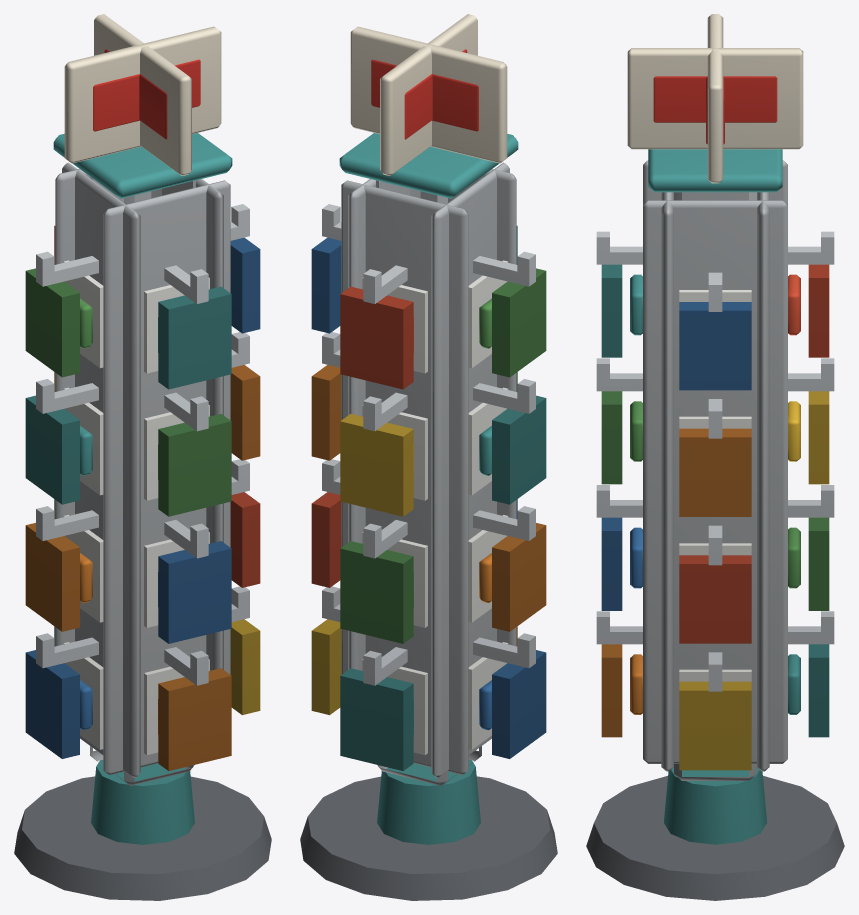
File: SpinnerRack_01_Stocked.glb
3 views of the same model, side by side, from view 1: azimuth 30°, elevation 25°; view 2: azimuth 150°, elevation 25°; view 3: azimuth 270°, elevation 25° (orthographic).
Parts seen in each view (by area): view 1: SM_SpinnerRack_01_Stocked; view 2: SM_SpinnerRack_01_Stocked; view 3: SM_SpinnerRack_01_Stocked.
Boxes of the visible parts, left/top/right/bottom form: SM_SpinnerRack_01_Stocked: left=14, top=14, right=271, bottom=900; SM_SpinnerRack_01_Stocked: left=300, top=14, right=557, bottom=900; SM_SpinnerRack_01_Stocked: left=586, top=14, right=844, bottom=900.
Bounding box in the file's own units: 0.5 × 1.7 × 0.5.
1 material, 1 textured.
